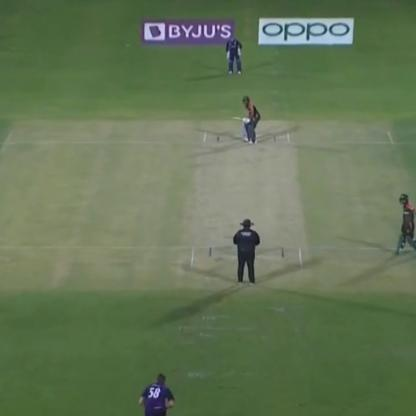bat: (220, 113, 250, 124)
pitch: (196, 129, 296, 271)
